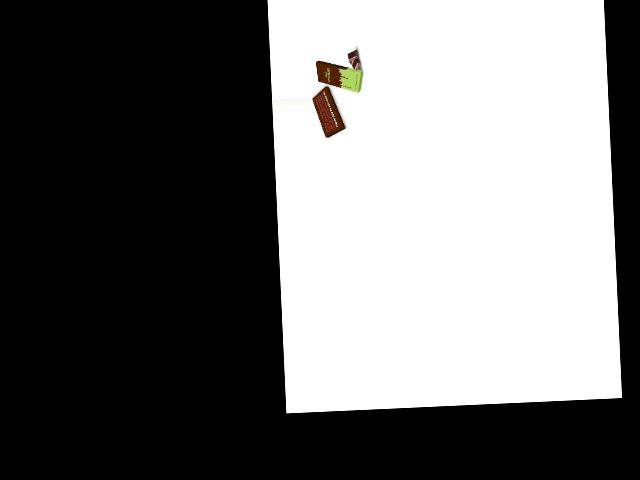chocolate: (315, 62, 365, 92)
